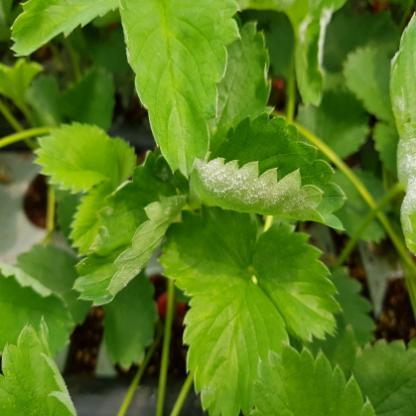Strawberry_Powdery_Mildew_Leaf: (188, 110, 348, 232), (70, 145, 190, 306), (180, 276, 292, 416), (235, 0, 346, 108), (388, 11, 415, 255)
